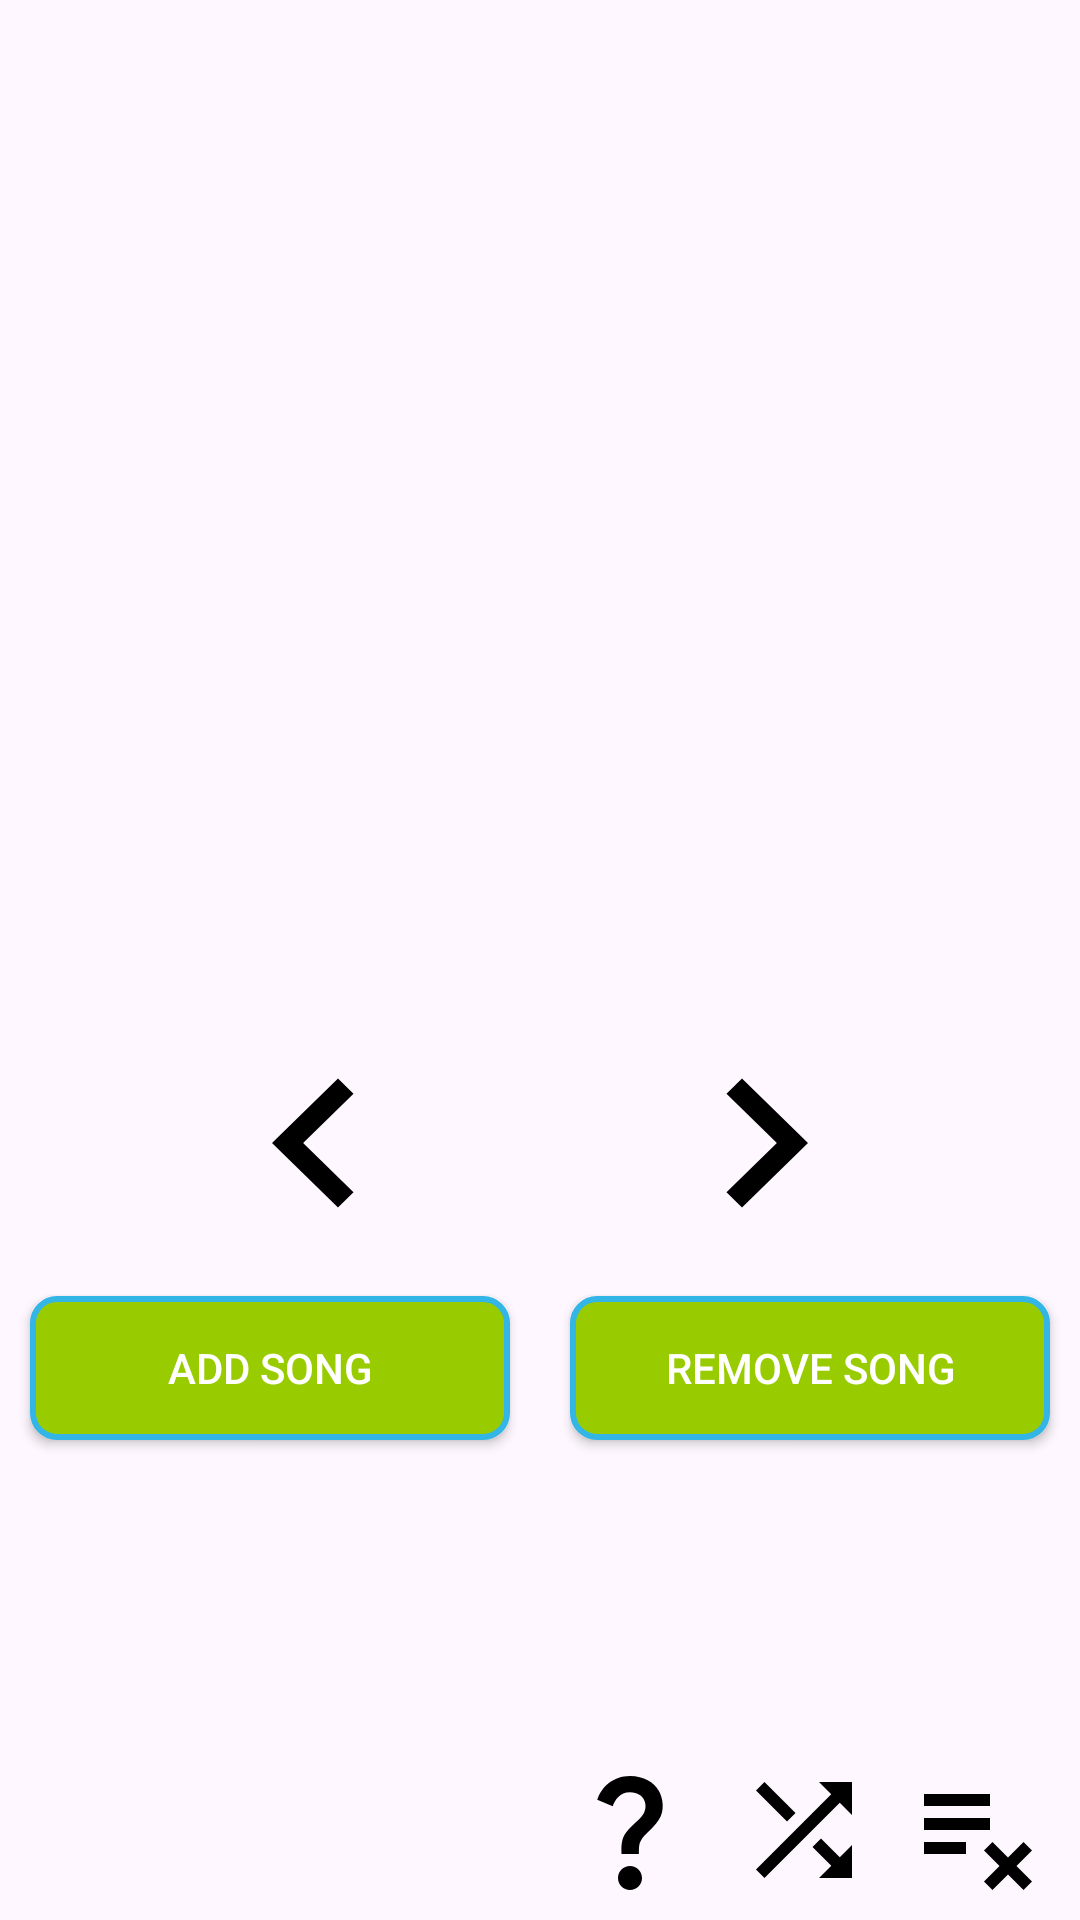

Icons on this 1080px×1920px Android screen, each with its box as [x1,y1,x2,y2]:
navigate before: [272,1078,354,1208]
navigate next: [726,1078,808,1208]
playlist remove: [924,1794,1032,1890]
question mark: [597,1776,663,1890]
shuffle: [756,1782,852,1878]
